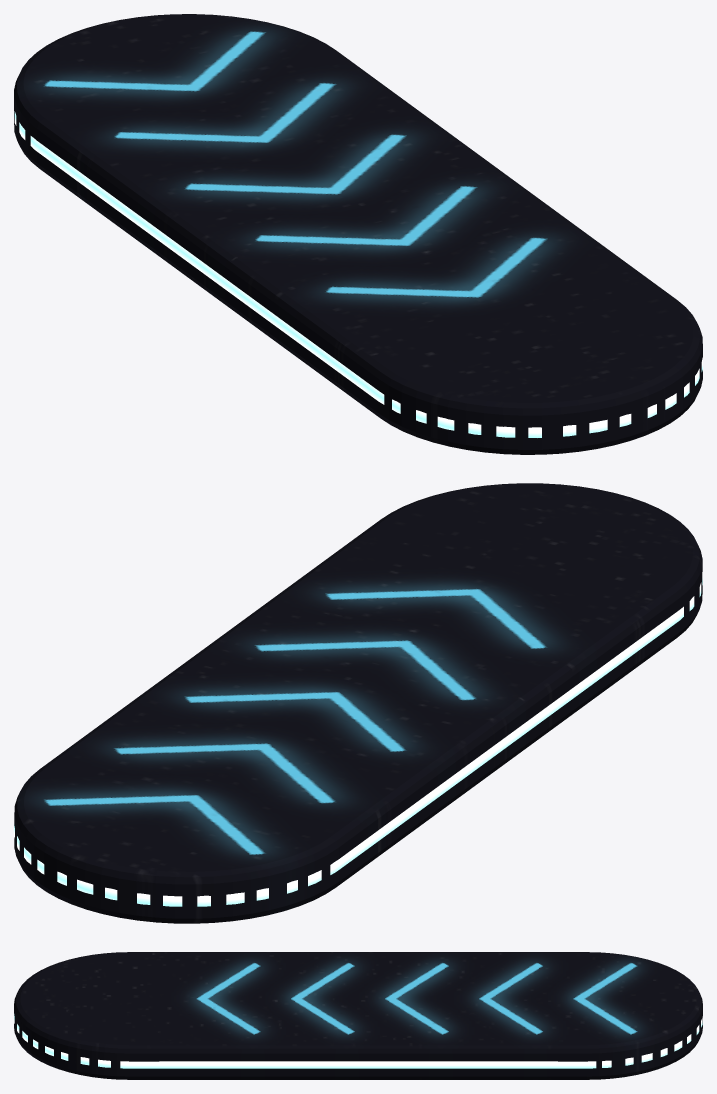
Rendered from hoverboard_neon.glb.
3 renders of one model, top to bottom at view 1: azimuth 30°, elevation 25°; view 2: azimuth 150°, elevation 25°; view 3: azimuth 270°, elevation 25°, orthographic. The views are drawn at different scales.
Visible parts, largest first — view 1: Hoverboard_neon_BoardTop, Hoverboard_neon_BoardEdge; view 2: Hoverboard_neon_BoardTop, Hoverboard_neon_BoardEdge; view 3: Hoverboard_neon_BoardTop, Hoverboard_neon_BoardEdge.
Part boxes in pixels (x1=…): Hoverboard_neon_BoardTop: x1=14, y1=14, x2=702, y2=454; Hoverboard_neon_BoardEdge: x1=14, y1=111, x2=702, y2=437; Hoverboard_neon_BoardTop: x1=14, y1=483, x2=702, y2=923; Hoverboard_neon_BoardEdge: x1=14, y1=571, x2=702, y2=906; Hoverboard_neon_BoardTop: x1=14, y1=952, x2=702, y2=1079; Hoverboard_neon_BoardEdge: x1=14, y1=1014, x2=702, y2=1068.
Size of the model in its own units: 0.5519 by 0.165 by 1.63.
Materials: 4 (1 with a texture image).
